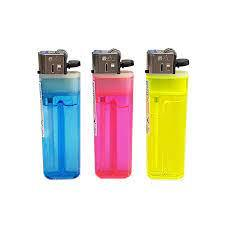lighter: (37, 49, 80, 182), (147, 48, 189, 180), (94, 50, 132, 180)
